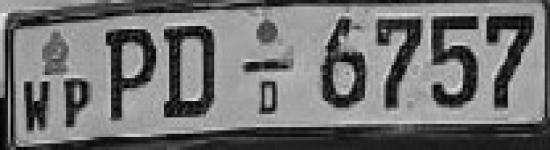-: (239, 52, 299, 77)
5: (426, 11, 484, 112)
6: (312, 13, 372, 121)
7: (368, 10, 426, 117), (484, 9, 540, 116)
D: (158, 17, 221, 125)
P: (100, 20, 160, 127), (59, 69, 97, 134)
W: (21, 72, 54, 139)
